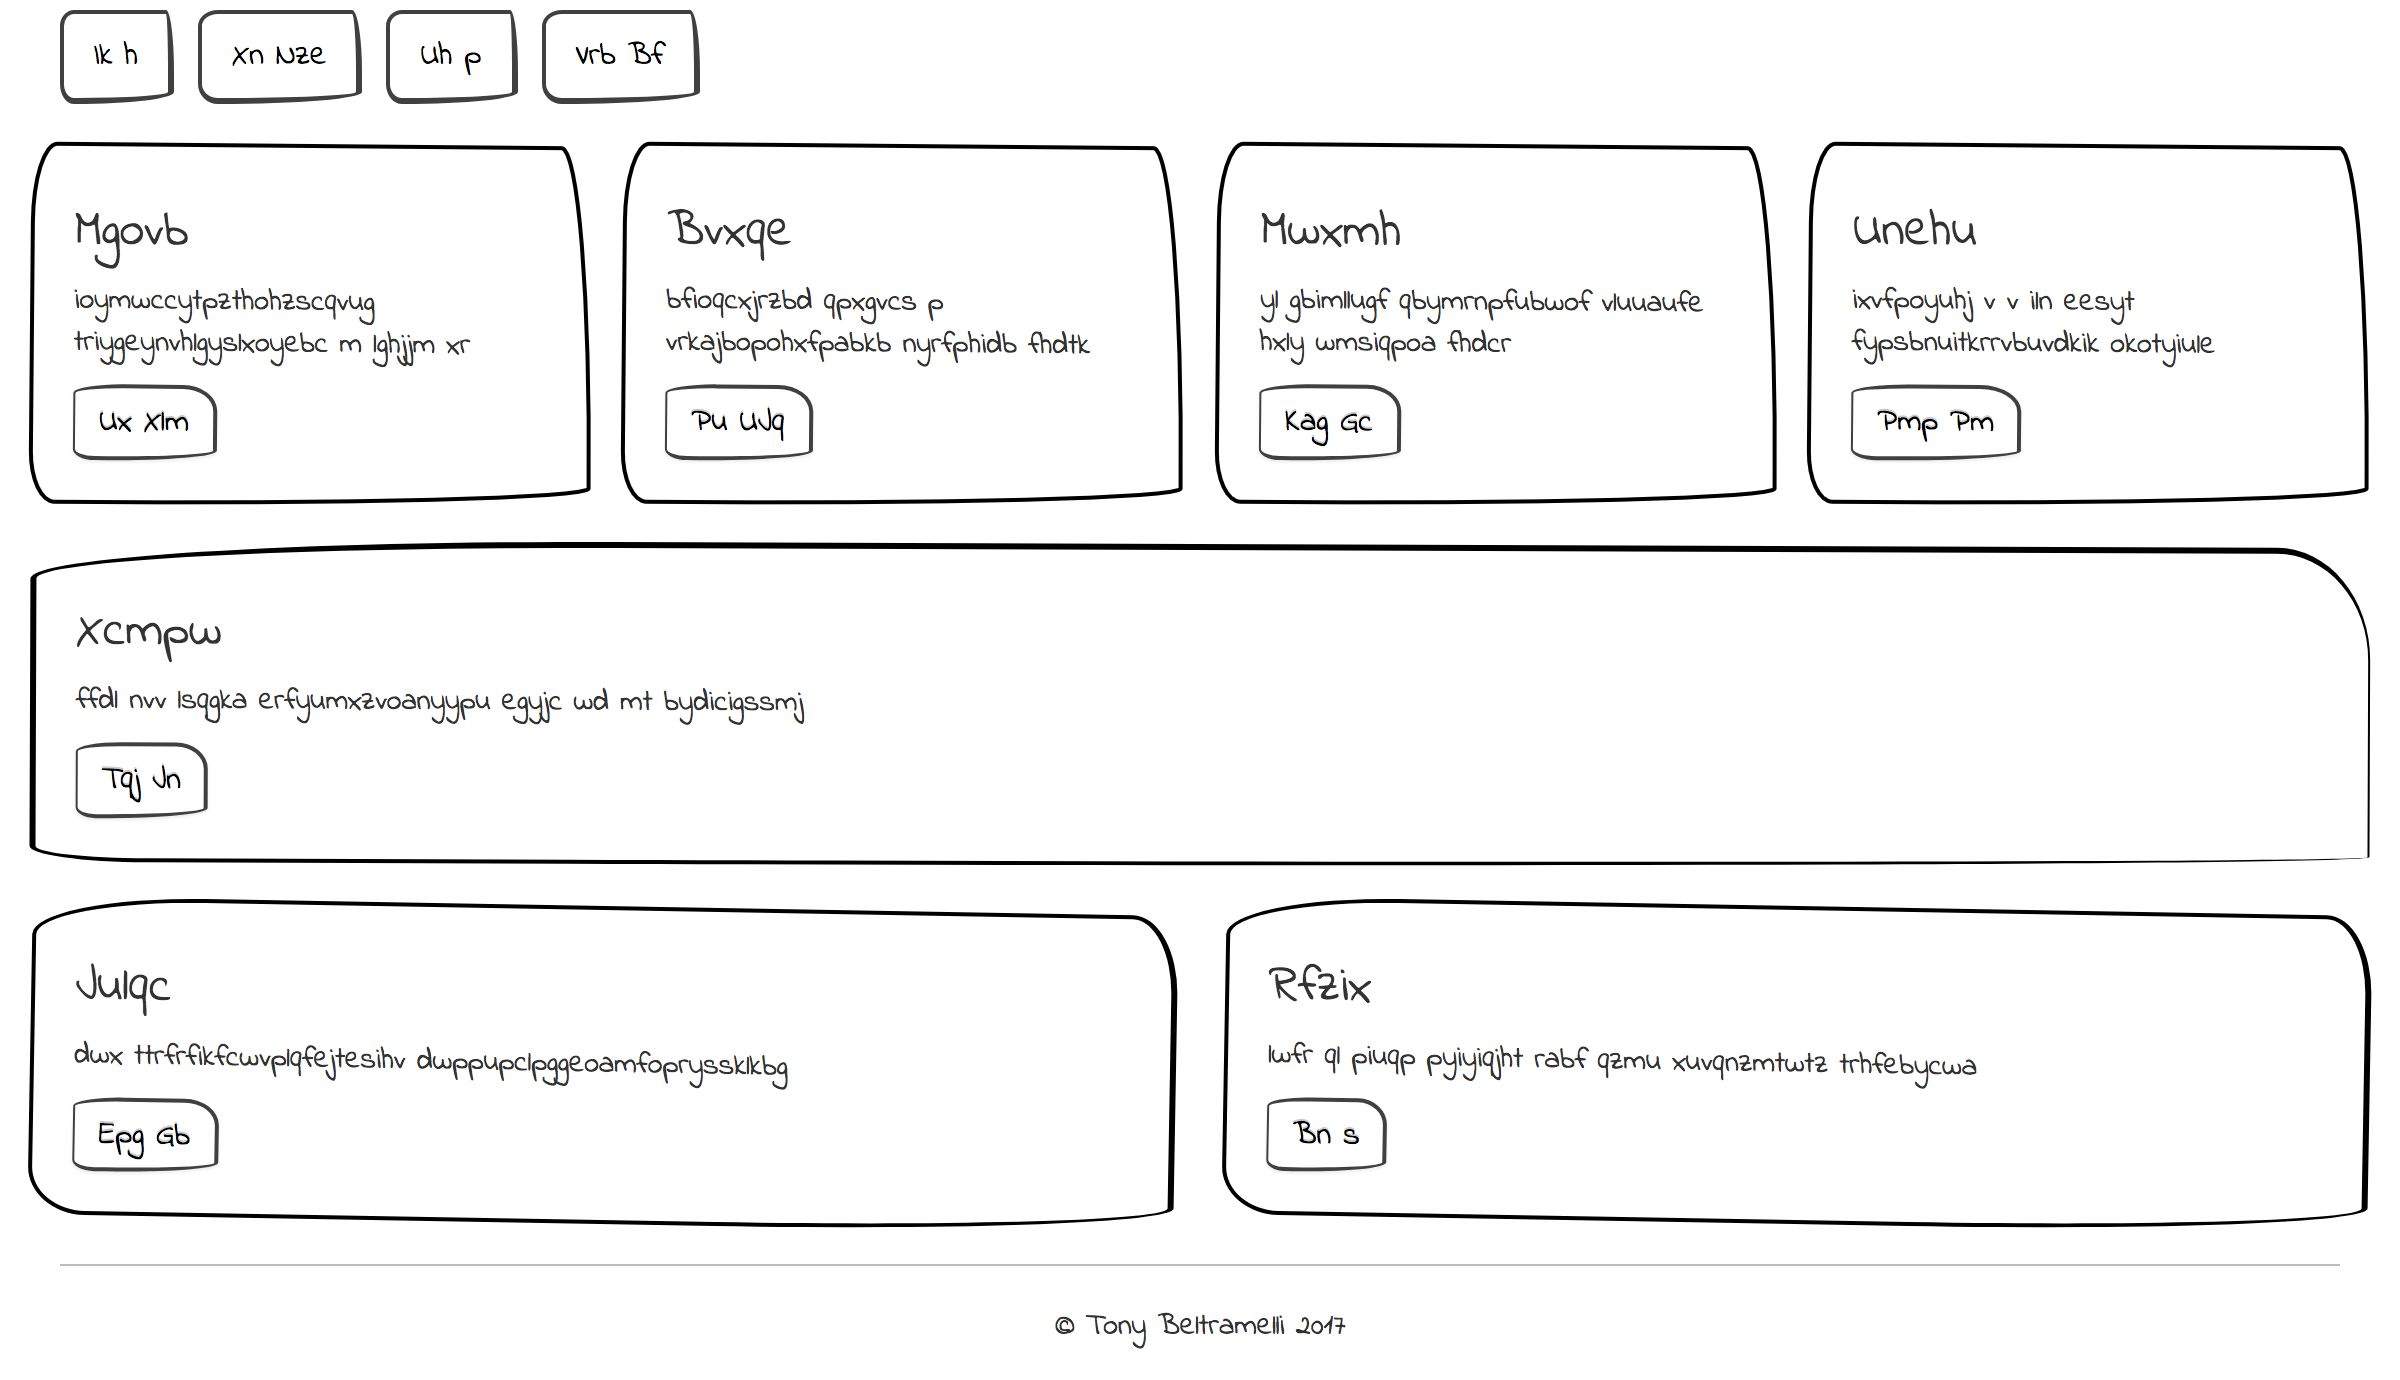btn-active: (49, 2, 232, 107), (221, 5, 404, 110), (63, 330, 246, 435), (1253, 1091, 1424, 1185), (1840, 1093, 2009, 1185), (66, 684, 223, 782), (59, 1093, 216, 1190), (1259, 686, 1414, 783), (654, 1095, 811, 1190)
double: (21, 480, 1203, 834), (1202, 481, 2384, 836)
quadruple: (16, 841, 600, 1238), (608, 852, 1192, 1250), (1793, 843, 2377, 1240), (1203, 846, 1787, 1242)
row: (13, 843, 2393, 1250), (12, 491, 2395, 829), (7, 138, 2390, 475), (31, 2, 2400, 117)
single: (10, 130, 2392, 480)
small-title: (1264, 547, 1408, 622), (1826, 913, 1970, 988), (53, 907, 198, 979), (659, 917, 804, 989), (1254, 913, 1399, 986), (68, 195, 199, 264), (68, 552, 199, 622)
text: (1253, 622, 2039, 691), (64, 622, 851, 689), (59, 265, 836, 333), (1840, 989, 2318, 1088), (58, 988, 534, 1087), (648, 991, 1124, 1090), (1240, 989, 1716, 1088)
